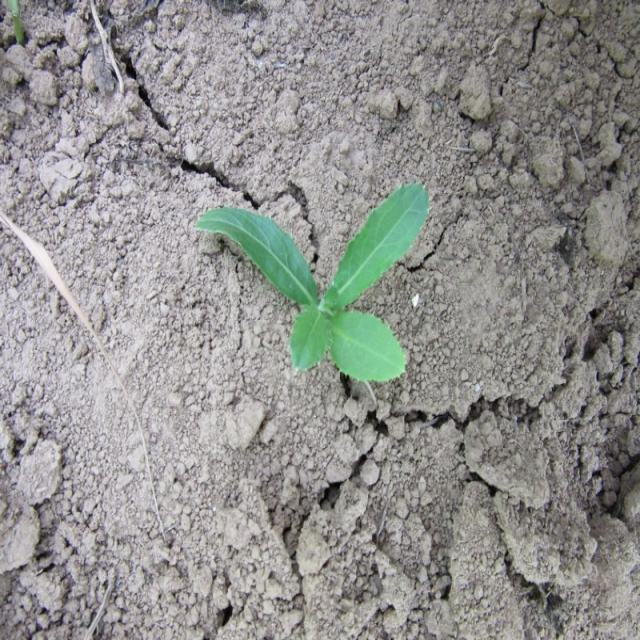field_thistle: (190, 160, 433, 399)
